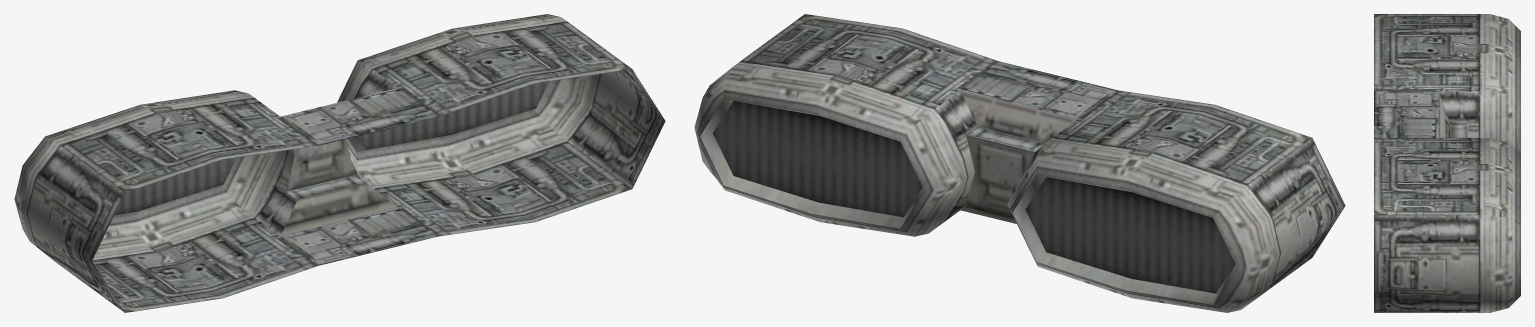
The model's file is ykl37r_engine_s02_l1.fbx.
3 renders of one model, left to right at view 1: azimuth 30°, elevation 25°; view 2: azimuth 150°, elevation 25°; view 3: azimuth 270°, elevation 25°, orthographic. The views are drawn at different scales.
Parts seen in each view (by area): view 1: mesh_node; view 2: mesh_node; view 3: mesh_node.
Boxes of the visible parts, x1,y1,x2,y2 form: mesh_node: (14,14,665,312); mesh_node: (694,14,1345,312); mesh_node: (1374,14,1520,312).
Size of the model in its own units: 11.57 by 2.67 by 3.15.
Materials: 1 (1 with a texture image).
